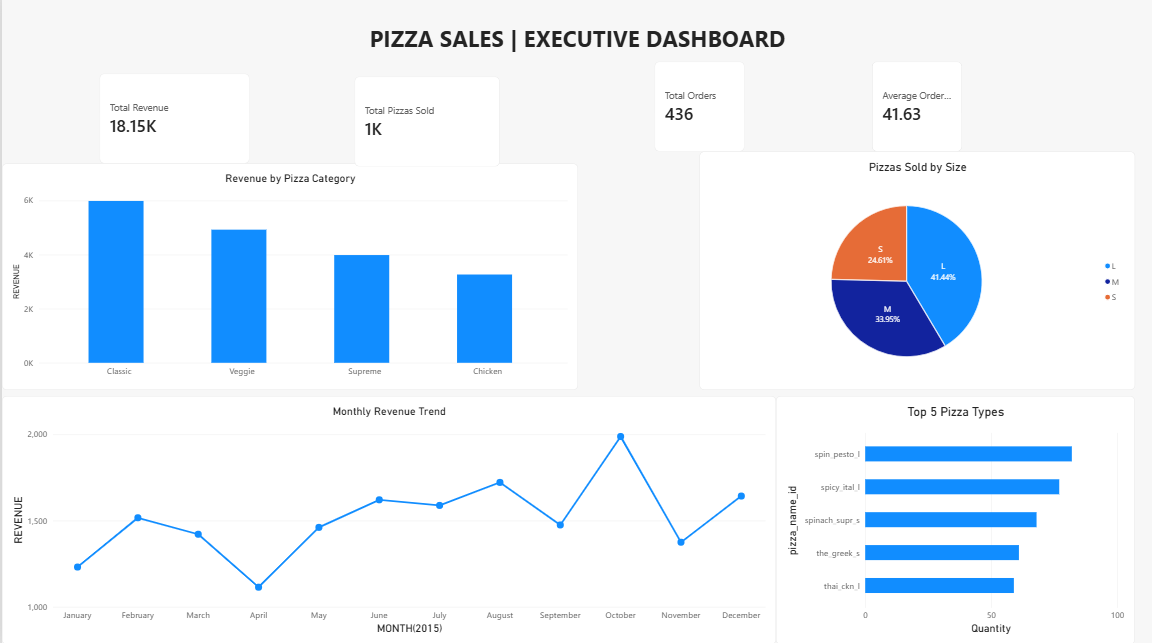

Layout of this report page (visuals, bound fields, positions):
{"tool":"powerbi","page":{"name":"Page 1","canvas":[1920,1080],"ordinal":0},"visuals":[{"type":"columnChart","title":"Revenue by Pizza Category","fields":{"Category":["Raw_Data (2).pizza_category"],"Y":["Raw_Data (2).Total Revenue"]},"box":[0,277.5,960,377.5],"z":0},{"type":"textbox","box":[0,42.5,1919.1,90.7],"z":1},{"type":"pieChart","title":"Pizzas Sold by Size","fields":{"Category":["Raw_Data (2).pizza_size"],"Y":["Raw_Data (2).Total Pizzas Sold"]},"box":[1162.2,258,726,397],"z":2},{"type":"lineChart","title":"Monthly Revenue Trend","fields":{"Category":["Raw_Data (2).order_date.Variation.Date Hierarchy.Month"],"Y":["Raw_Data (2).Total Revenue"]},"box":[0,666.1,1289.8,413.9],"z":3},{"type":"barChart","title":"Top 5 Pizza Types","fields":{"Category":["Raw_Data (2).pizza_name_id"],"Y":["Sum(Raw_Data (2).quantity)"]},"box":[1290,666,598,414],"z":4},{"type":"cardVisual","fields":{"Data":["Raw_Data (2).Total Revenue"]},"box":[162.5,127.5,250,150],"z":5},{"type":"cardVisual","fields":{"Data":["Raw_Data (2).Total Pizzas Sold"]},"box":[587.5,132.5,242.5,150],"z":6},{"type":"cardVisual","fields":{"Data":["Raw_Data (2).Total Orders"]},"box":[1087.5,107.5,150,150],"z":7},{"type":"cardVisual","fields":{"Data":["Raw_Data (2).Average Order Value"]},"box":[1450,107.5,150,150],"z":8}]}

Visuals, with their boxes in screenshot pixels (x1, y1, x2, y2), scaled from the page's 1920x1080 canvas onto the 1152x643 screenshot:
"Revenue by Pizza Category" columnChart: region(0, 165, 576, 390)
textbox: region(0, 25, 1151, 79)
"Pizzas Sold by Size" pieChart: region(697, 154, 1133, 390)
"Monthly Revenue Trend" lineChart: region(0, 397, 774, 642)
"Top 5 Pizza Types" barChart: region(774, 397, 1133, 642)
cardVisual - Raw_Data (2).Total Revenue: region(98, 76, 248, 165)
cardVisual - Raw_Data (2).Total Pizzas Sold: region(352, 79, 498, 168)
cardVisual - Raw_Data (2).Total Orders: region(652, 64, 742, 153)
cardVisual - Raw_Data (2).Average Order Value: region(870, 64, 960, 153)
